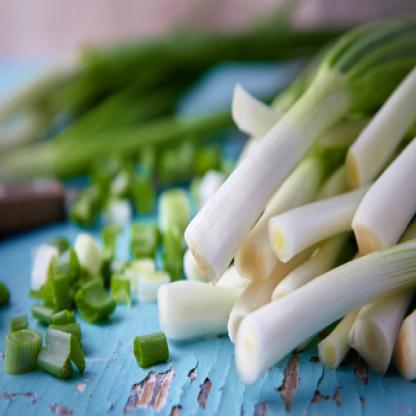green onion: (163, 0, 414, 273)
